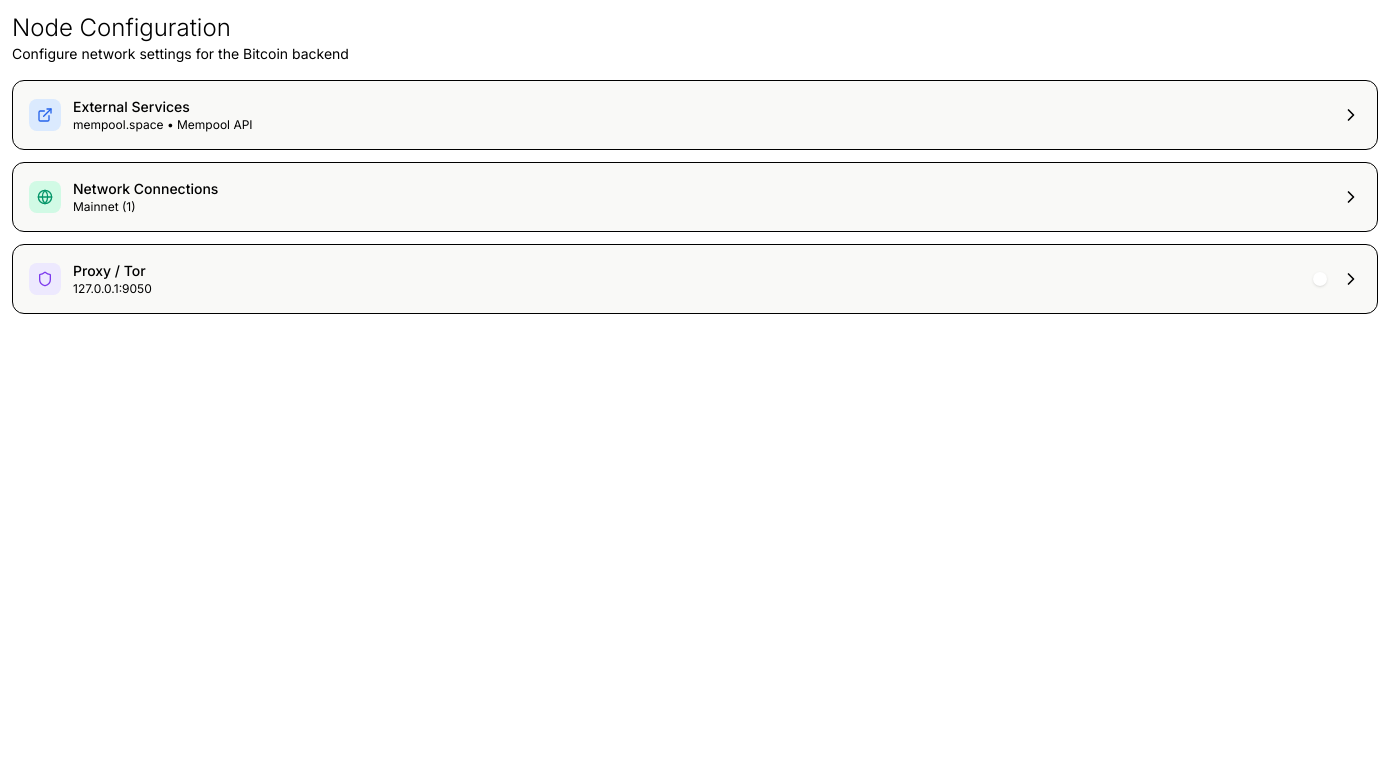
Scenario: NodeConfig › proxy settings › shows custom proxy link when bundled Tor not in use
Click the heading "Proxy / Tor": (112, 271) [73,261,152,281]
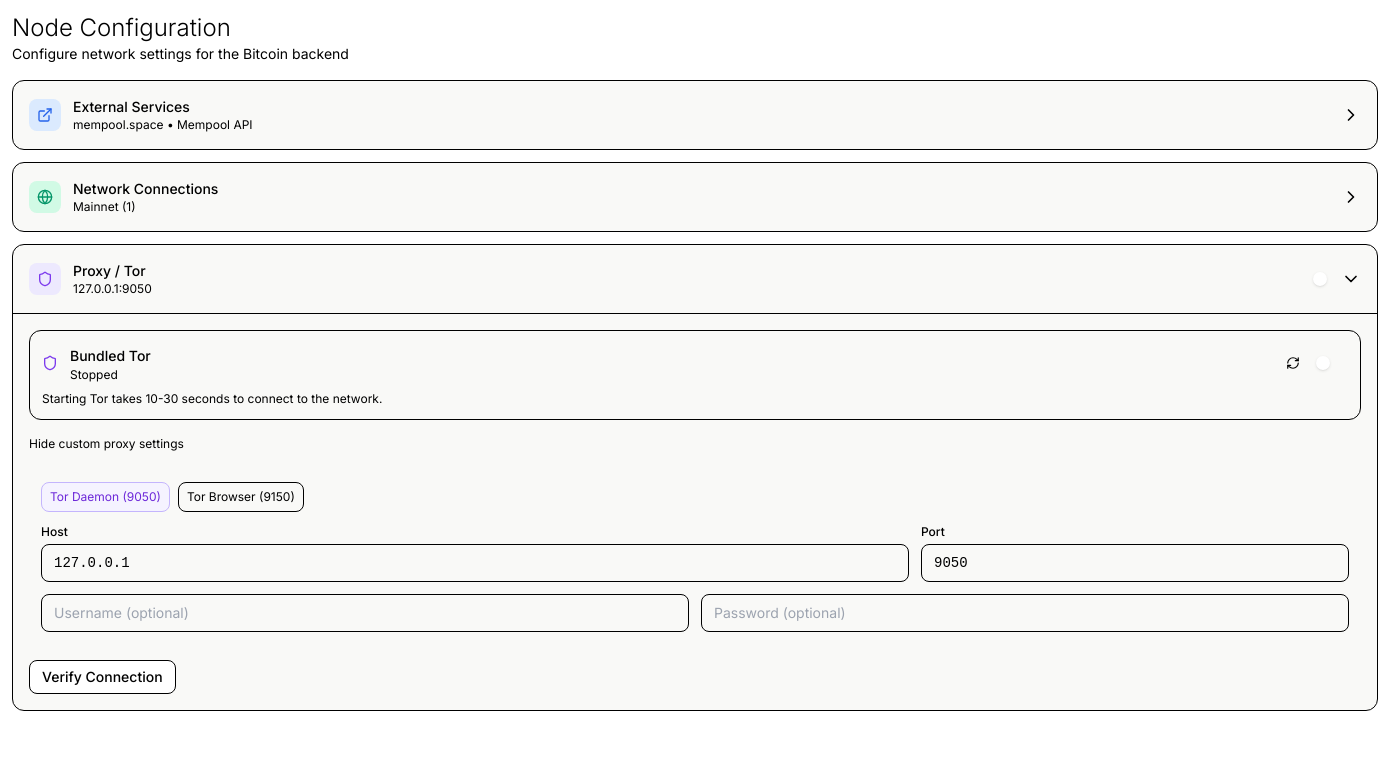
Expected: the button "Hide custom proxy settings" is shown, [29,436,184,452]
